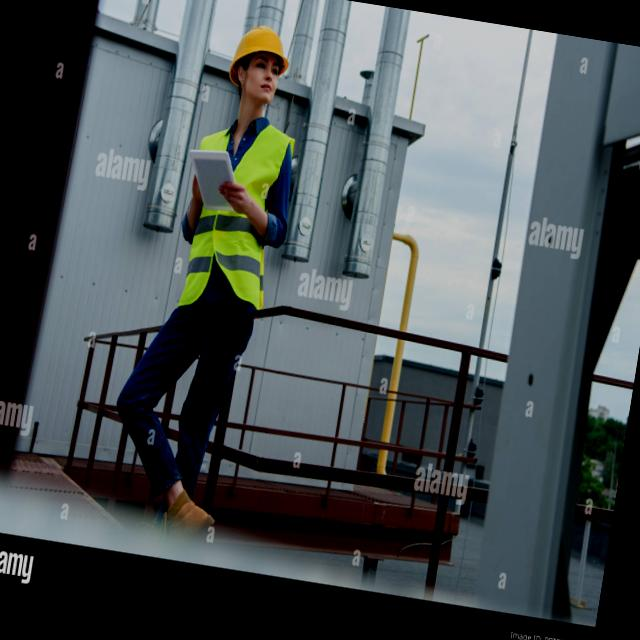helmet: (218, 18, 304, 78)
no-goggles: (242, 55, 292, 86)
vest: (160, 96, 311, 332)
